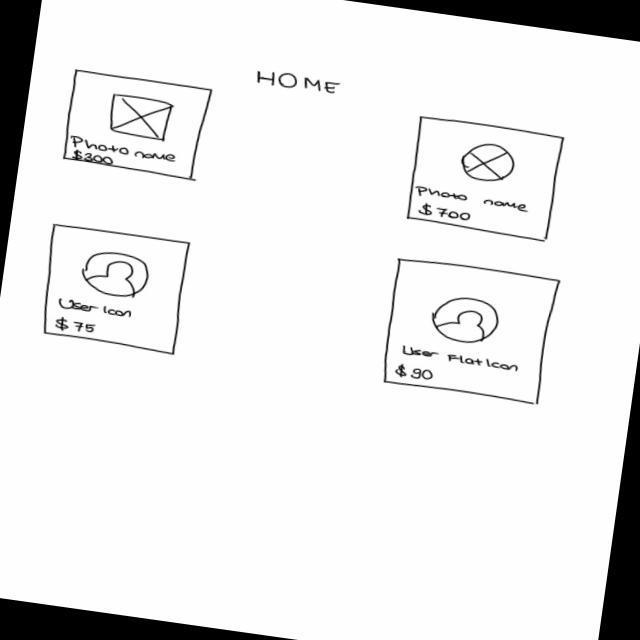container: (379, 255, 565, 409), (402, 115, 570, 246), (36, 222, 196, 359), (59, 68, 217, 185)
image: (428, 292, 504, 349), (81, 249, 154, 301), (106, 92, 175, 143), (459, 140, 521, 188)
label: (414, 184, 533, 217), (400, 346, 525, 375), (69, 135, 182, 166), (254, 67, 345, 98), (58, 298, 137, 322), (419, 203, 474, 225), (56, 316, 100, 338), (69, 150, 117, 167), (397, 364, 437, 384)
